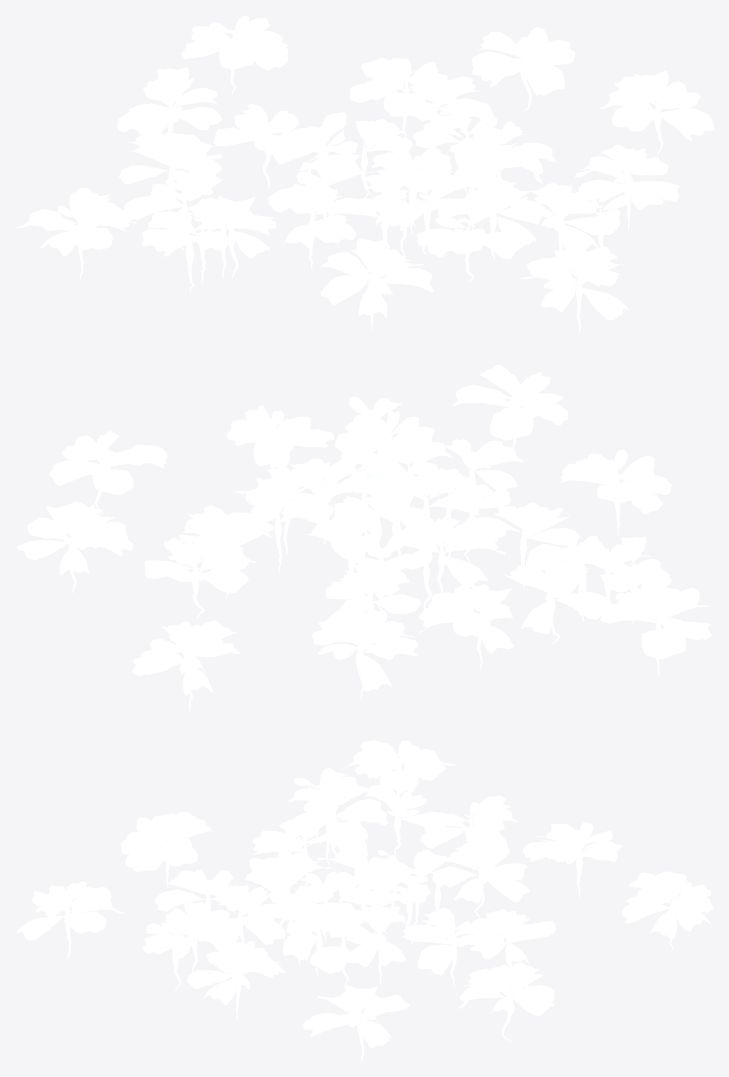
The picture shows the model from 3 angles, top to bottom: view 1: azimuth 30°, elevation 25°; view 2: azimuth 150°, elevation 25°; view 3: azimuth 270°, elevation 25°; orthographic projection. The views are drawn at different scales.
Visible parts, largest first — view 1: SM_BM_Water_Lettuce_04_LOD0; view 2: SM_BM_Water_Lettuce_04_LOD0; view 3: SM_BM_Water_Lettuce_04_LOD0.
Boxes of the visible parts, <box> form: SM_BM_Water_Lettuce_04_LOD0: <box>16,15,714,333</box>; SM_BM_Water_Lettuce_04_LOD0: <box>17,364,711,710</box>; SM_BM_Water_Lettuce_04_LOD0: <box>16,740,713,1062</box>.
Size of the model in its own units: 4.23 by 0.5242 by 4.33.
1 material, 1 textured.
